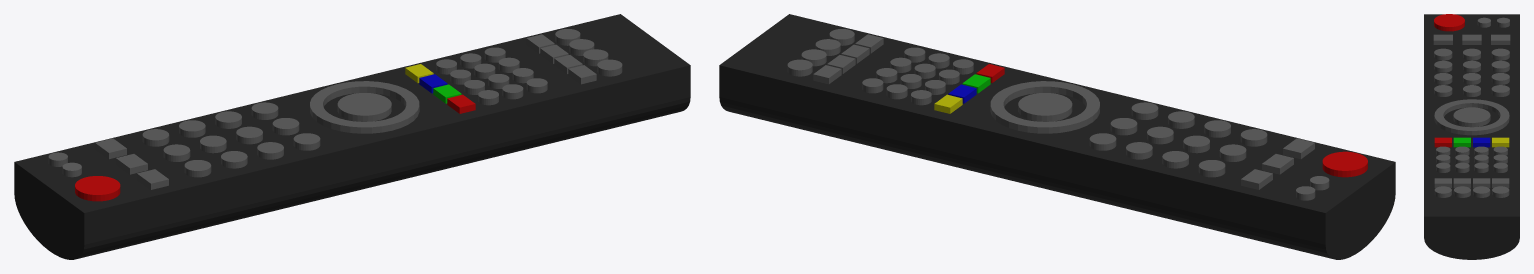
Rendered from remote.fbx.
The picture shows the model from 3 angles, left to right: view 1: azimuth 30°, elevation 25°; view 2: azimuth 150°, elevation 25°; view 3: azimuth 270°, elevation 25°; orthographic projection. The views are drawn at different scales.
Parts seen in each view (by area): view 1: Cube, Cylinder.015, Cylinder.016, Cylinder, Cube.001, Cube.003, Cube.002, Cylinder.003, Cylinder.014, Cylinder.004, Cylinder.013, Cylinder.005 (+10 smaller); view 2: Cube, Cylinder.015, Cylinder.016, Cylinder, Cube.001, Cube.002, Cube.003, Cylinder.003, Cylinder.012, Cylinder.005, Cylinder.013, Cylinder.004 (+10 smaller); view 3: Cube, Cylinder.015, Cylinder.016, Cylinder, Cube.001, Cube.002, Cube.003, Cylinder.004, Cylinder.005, Cylinder.006, Cylinder.008, Cylinder.003 (+33 smaller).
Boxes of the visible parts, left/top/right/bottom form: Cube: left=14, top=14, right=690, bottom=259; Cylinder.015: left=310, top=81, right=419, bottom=133; Cylinder.016: left=337, top=93, right=391, bottom=121; Cylinder: left=75, top=176, right=120, bottom=201; Cube.001: left=116, top=154, right=147, bottom=174; Cube.003: left=95, top=138, right=126, bottom=159; Cube.002: left=137, top=169, right=168, bottom=189; Cylinder.003: left=163, top=144, right=190, bottom=161; Cylinder.014: left=251, top=102, right=278, bottom=119; Cylinder.004: left=184, top=160, right=211, bottom=177; Cylinder.013: left=272, top=118, right=299, bottom=135; Cylinder.005: left=142, top=129, right=169, bottom=146; Cube: left=719, top=14, right=1395, bottom=259; Cylinder.015: left=990, top=81, right=1099, bottom=133; Cylinder.016: left=1018, top=93, right=1072, bottom=121; Cylinder: left=1322, top=151, right=1367, bottom=177; Cube.001: left=1262, top=154, right=1293, bottom=174; Cube.002: left=1283, top=138, right=1314, bottom=159; Cube.003: left=1241, top=169, right=1272, bottom=189; Cylinder.003: left=1219, top=144, right=1246, bottom=161; Cylinder.012: left=1131, top=102, right=1158, bottom=119; Cylinder.005: left=1198, top=160, right=1225, bottom=177; Cylinder.013: left=1110, top=118, right=1137, bottom=135; Cylinder.004: left=1240, top=129, right=1267, bottom=146; Cube: left=1424, top=14, right=1519, bottom=259; Cylinder.015: left=1434, top=99, right=1509, bottom=135; Cylinder.016: left=1453, top=107, right=1490, bottom=127; Cylinder: left=1434, top=14, right=1464, bottom=31; Cube.001: left=1462, top=34, right=1481, bottom=44; Cube.002: left=1433, top=34, right=1452, bottom=44; Cube.003: left=1491, top=34, right=1510, bottom=44; Cylinder.004: left=1434, top=48, right=1452, bottom=60; Cylinder.005: left=1491, top=48, right=1509, bottom=60; Cylinder.006: left=1434, top=60, right=1452, bottom=72; Cylinder.008: left=1491, top=60, right=1509, bottom=72; Cylinder.003: left=1463, top=48, right=1480, bottom=60.
Bounding box in the file's own units: 1000 × 110 × 200.
